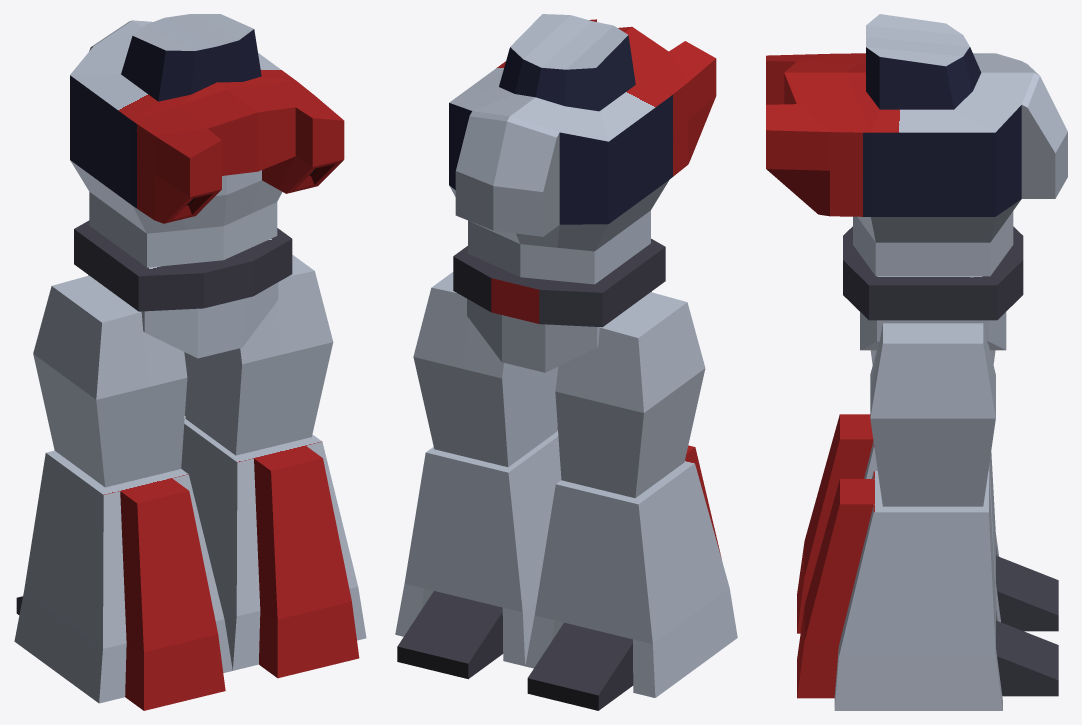
The model's file is Rush_Body.obj.
3 renders of one model, left to right at view 1: azimuth 30°, elevation 25°; view 2: azimuth 150°, elevation 25°; view 3: azimuth 270°, elevation 25°, orthographic. The views are drawn at different scales.
Visible parts, largest first — view 1: Shin, Body, Thigh, Pelvis; view 2: Shin, Body, Thigh, Pelvis, Toe; view 3: Body, Shin, Thigh, Pelvis, Toe.
Part boxes in pixels (bbox=[...]): Shin: bbox=[14, 418, 366, 710]; Body: bbox=[70, 14, 344, 267]; Thigh: bbox=[33, 255, 333, 487]; Pelvis: bbox=[74, 220, 292, 358]; Shin: bbox=[395, 428, 737, 697]; Body: bbox=[449, 14, 716, 284]; Thigh: bbox=[413, 272, 705, 498]; Pelvis: bbox=[453, 238, 665, 372]; Toe: bbox=[397, 591, 633, 710]; Body: bbox=[766, 14, 1067, 276]; Shin: bbox=[797, 414, 1002, 710]; Thigh: bbox=[870, 323, 995, 506]; Pelvis: bbox=[843, 226, 1023, 350]; Toe: bbox=[996, 555, 1058, 696].
Size of the model in its own units: 0.55 by 1.21 by 0.5411.
Materials: 1 (1 with a texture image).
